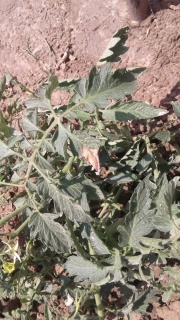tomato diseased leaf: (70, 133, 108, 178)
tomato plant: (74, 181, 180, 310), (1, 99, 71, 284)
